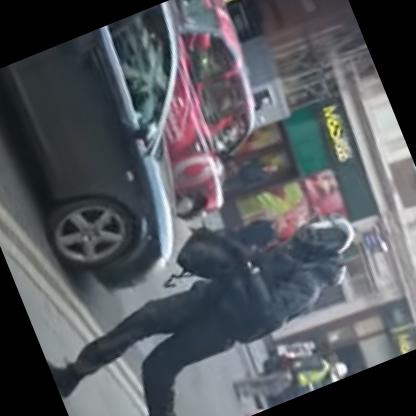Human Body: (29, 189, 404, 415)
